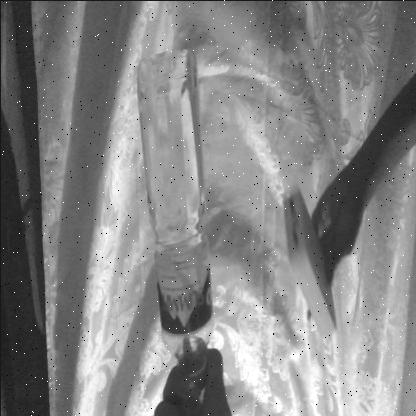Plastic Bottle: (115, 23, 239, 388)
